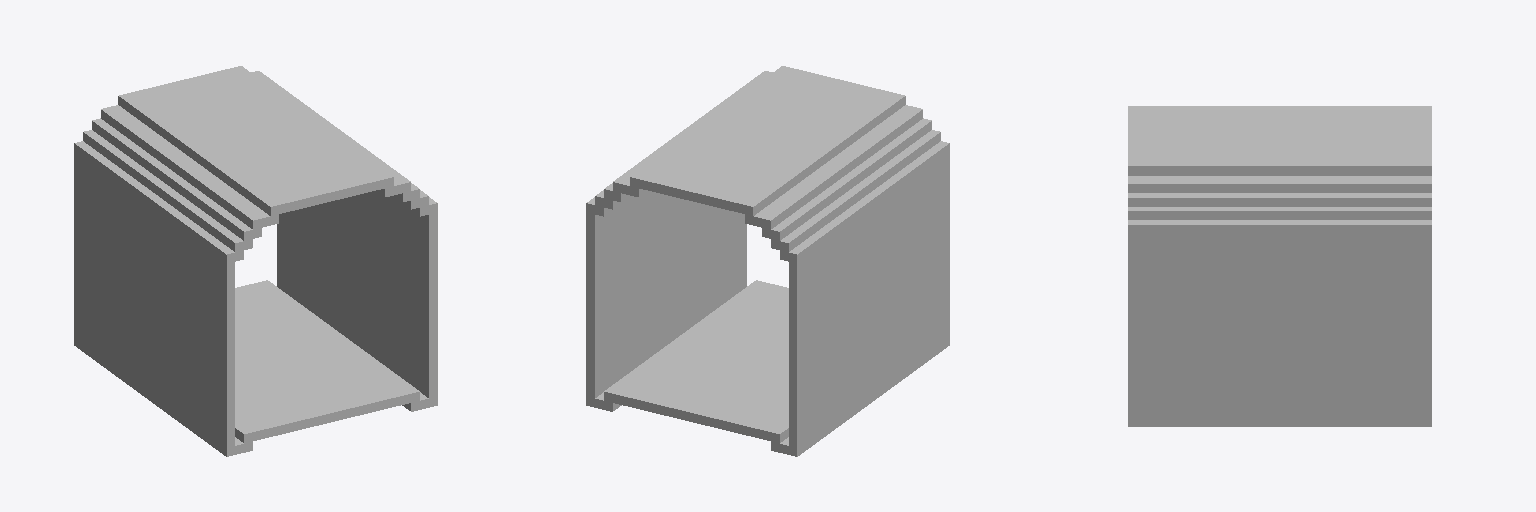
The model's file is Basic Tunnel.obj.
3 views of the same model, side by side, from view 1: azimuth 30°, elevation 25°; view 2: azimuth 150°, elevation 25°; view 3: azimuth 270°, elevation 25° (orthographic).
Bounding box in the file's own units: 24 × 26 × 30.